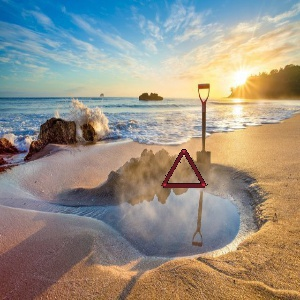triangle: (160, 148, 208, 190)
